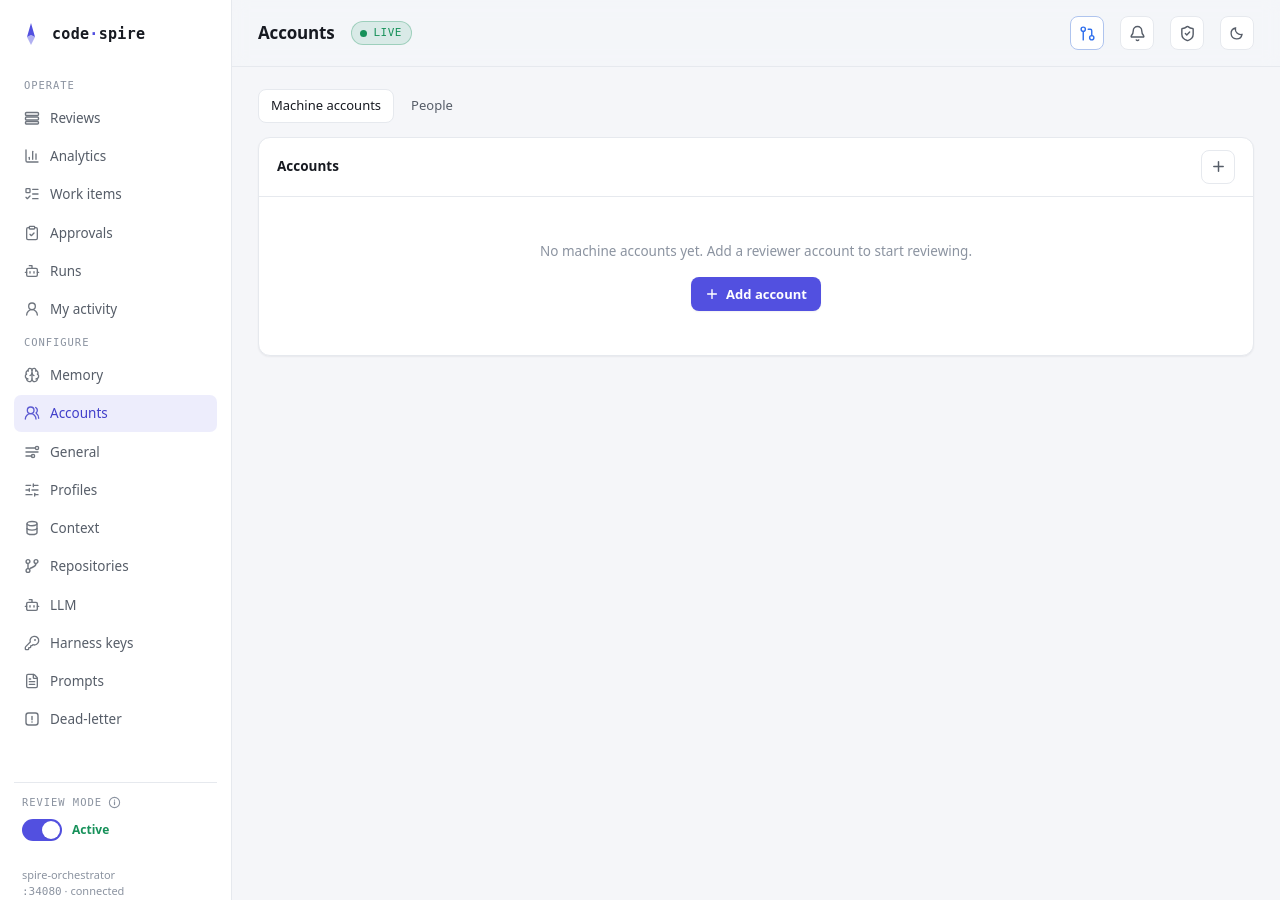
Scenario: App — routing shell › navigates to the reviews list when a PR is registered from a settings screen
This screenshot has width=1280, height=900.
Check: the heading "Accounts" next to "LIVE" is shown, box [258,21,334,44]
Click the button named "register pr" at (1087, 33), box [1070,16,1104,50]
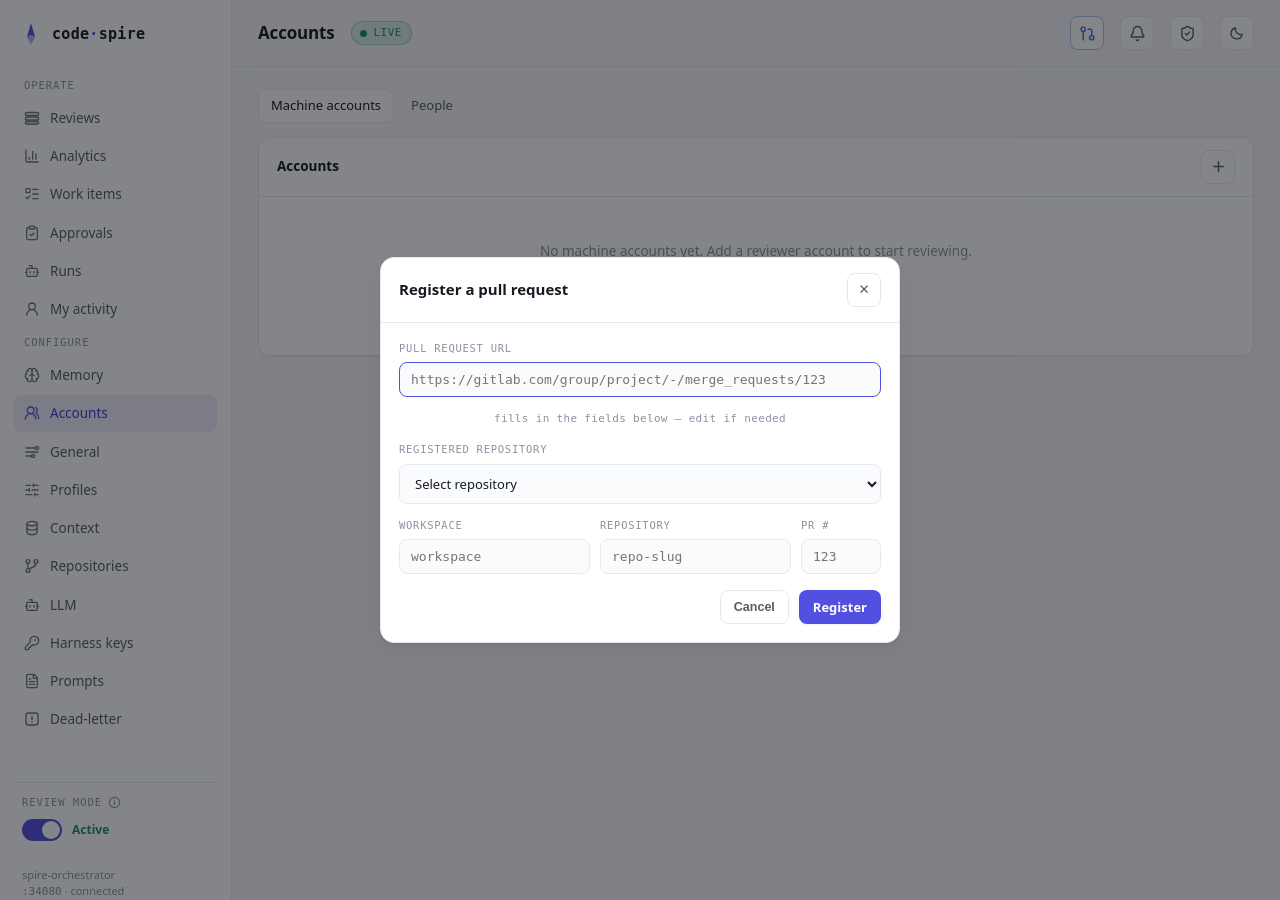
Select "https://api.github.com · TEST-WS/TEST-REPO" in the dropdown labelled "Registered repository" at (640, 484), box [399,464,881,504]
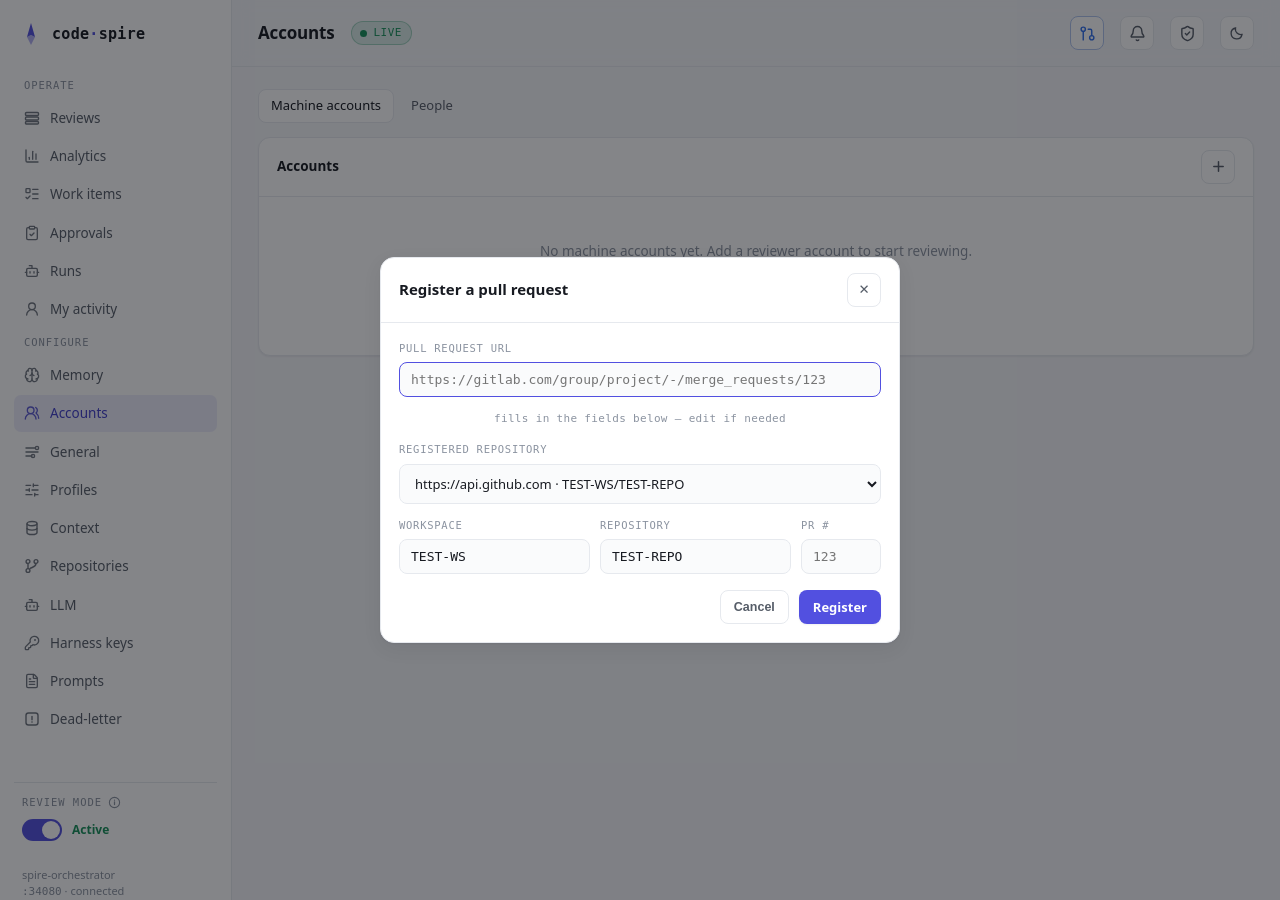
Type "1" into the field labelled "PR #" at (841, 557), box [801,539,881,574]
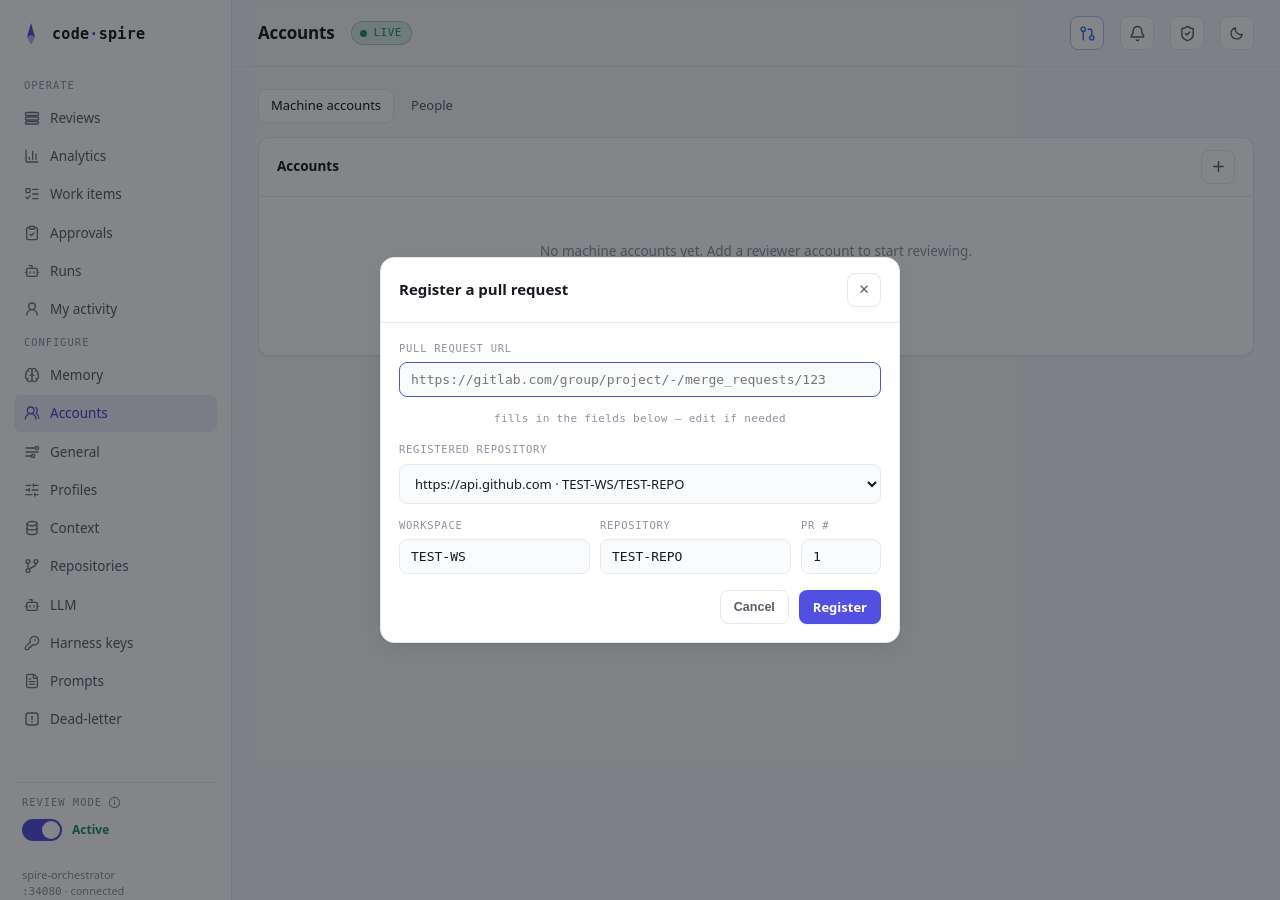
Click the button "Register" at (840, 607), box [799,590,881,624]
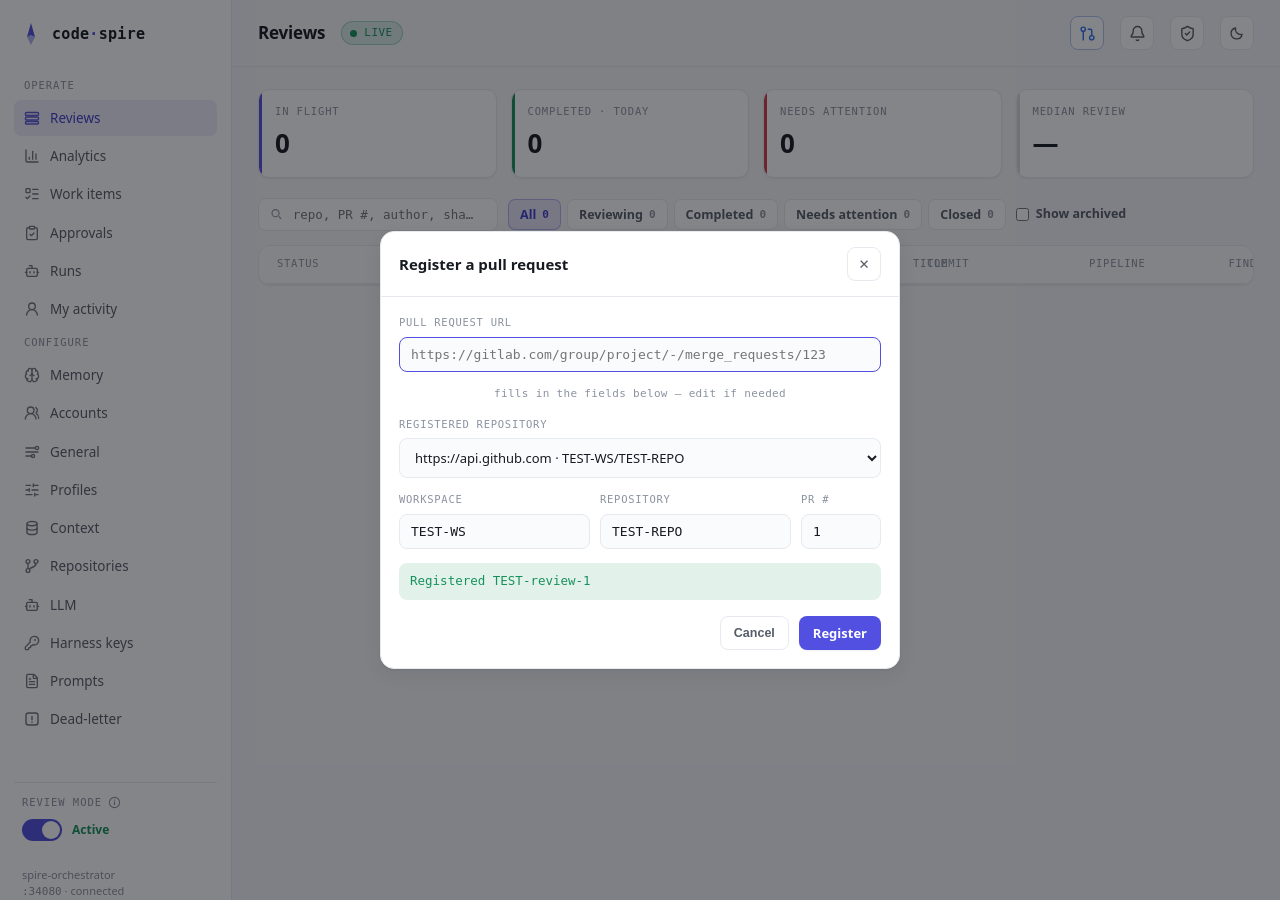
Check: the heading "Reviews" is shown, box [258,20,325,46]
